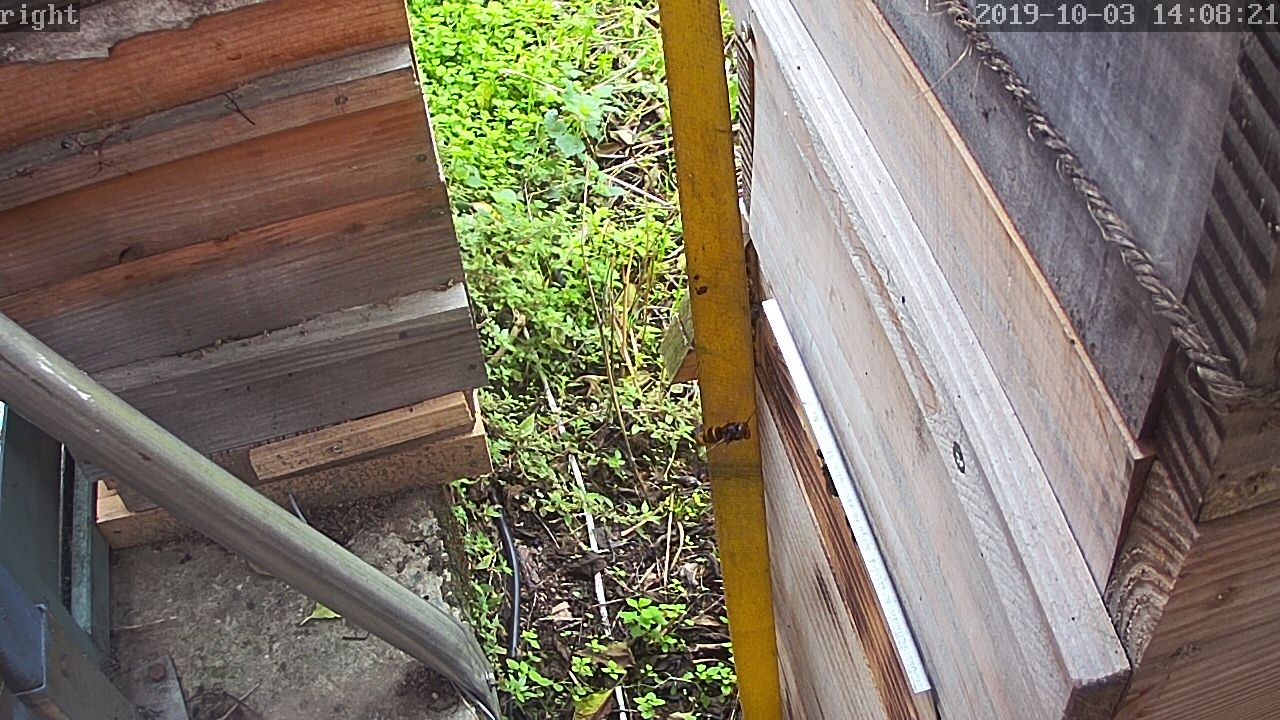bee: (814, 465, 842, 500)
hornet: (691, 416, 757, 453)
